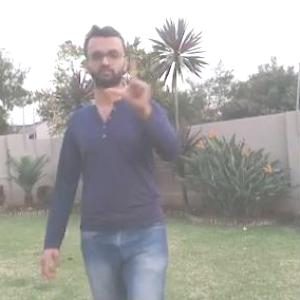land_hand: (106, 54, 156, 109)
